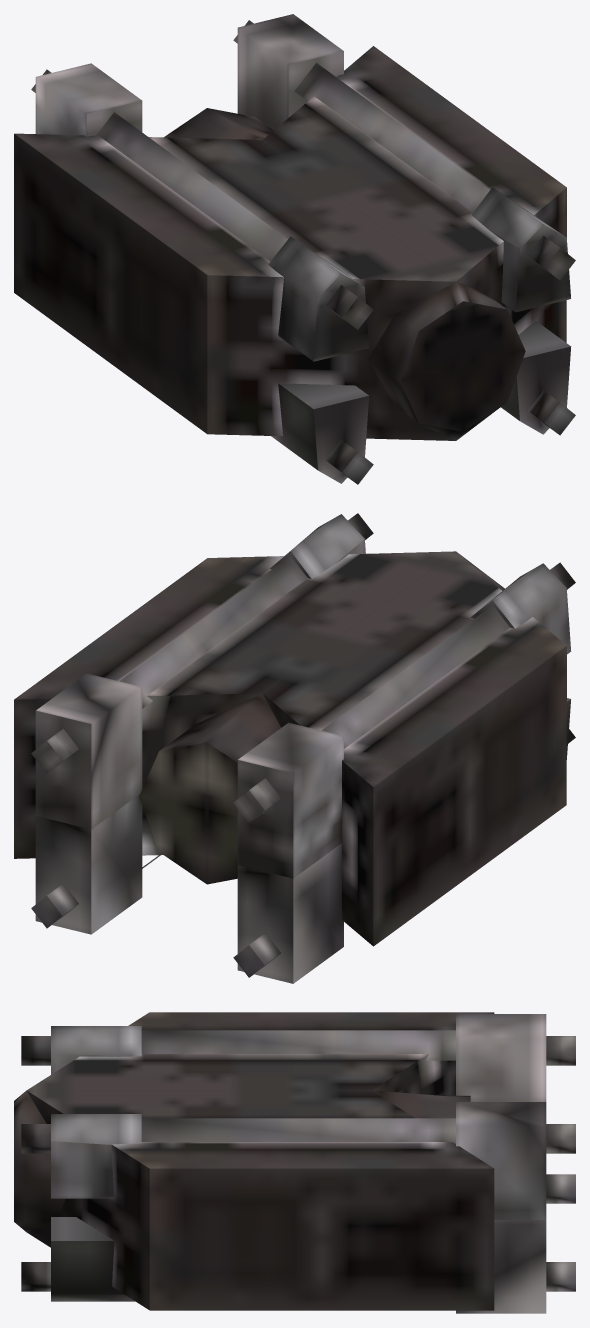
File: Sniper_Rifle_Object002_Stock_LOD_(000862).glb
3 views of the same model, one above another, from view 1: azimuth 30°, elevation 25°; view 2: azimuth 150°, elevation 25°; view 3: azimuth 270°, elevation 25° (orthographic). The views are drawn at different scales.
Visible parts, largest first — view 1: Object002; view 2: Object002; view 3: Object002.
Part boxes in pixels (x1=…): Object002: x1=14, y1=14, x2=575, y2=484; Object002: x1=14, y1=513, x2=575, y2=983; Object002: x1=14, y1=1012, x2=575, y2=1313.
Size of the model in its own units: 0.1872 by 0.1048 by 0.2843.
1 material, 1 textured.
